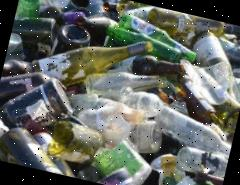glass: (26, 14, 154, 105), (0, 66, 79, 143)
